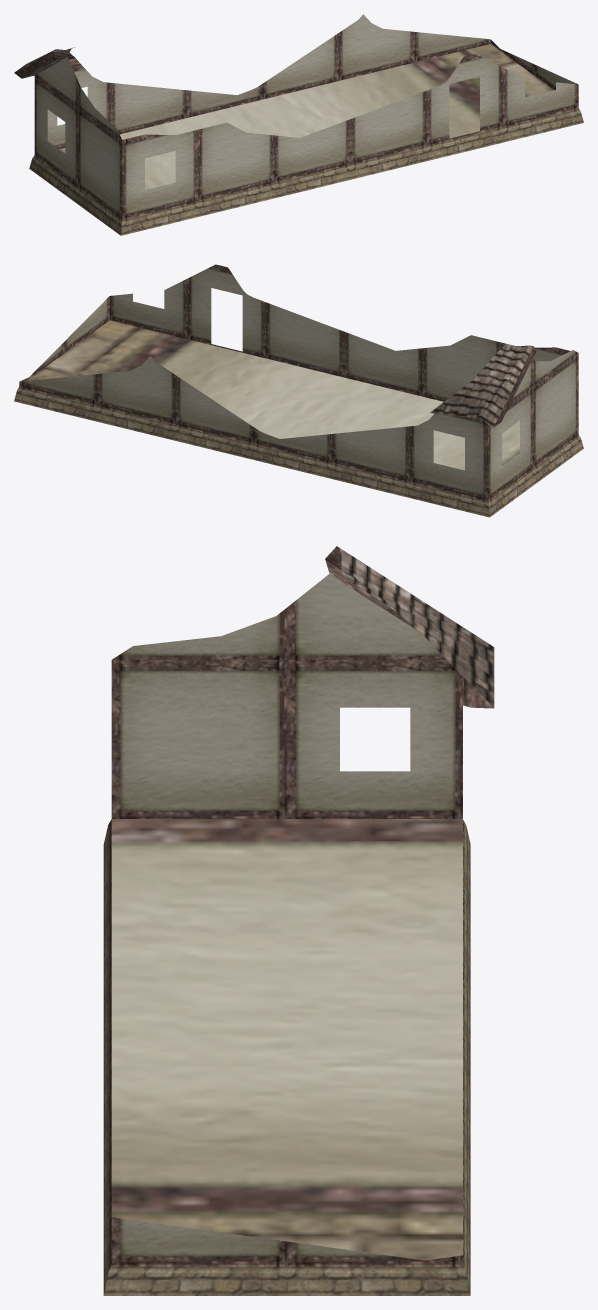
The model's file is s44_b_house_4_3_destroyed_2.dae.
3 views of the same model, one above another, from view 1: azimuth 30°, elevation 25°; view 2: azimuth 150°, elevation 25°; view 3: azimuth 270°, elevation 25° (orthographic). The views are drawn at different scales.
Visible parts, largest first — view 1: s44_b_house_1_3; view 2: s44_b_house_1_3; view 3: s44_b_house_1_3.
Part boxes in pixels (x1=…): s44_b_house_1_3: x1=14, y1=14, x2=583, y2=235; s44_b_house_1_3: x1=14, y1=264, x2=583, y2=517; s44_b_house_1_3: x1=103, y1=546, x2=494, y2=1295.
Bounding box in the file's own units: 149 × 53.33 × 43.73.
1 material, 1 textured.
